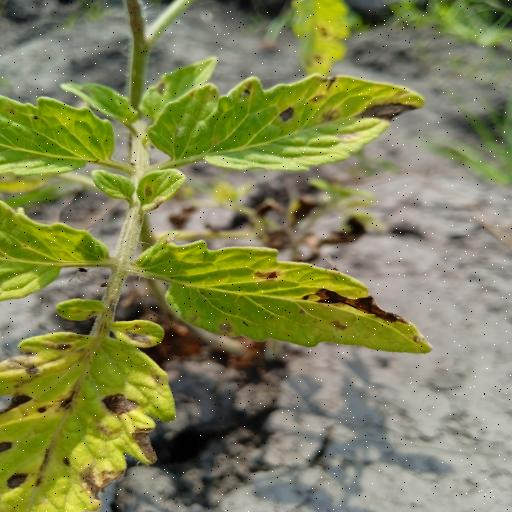Tomato_Brown_Spots: (128, 235, 440, 357), (0, 297, 174, 512), (148, 70, 430, 175)
